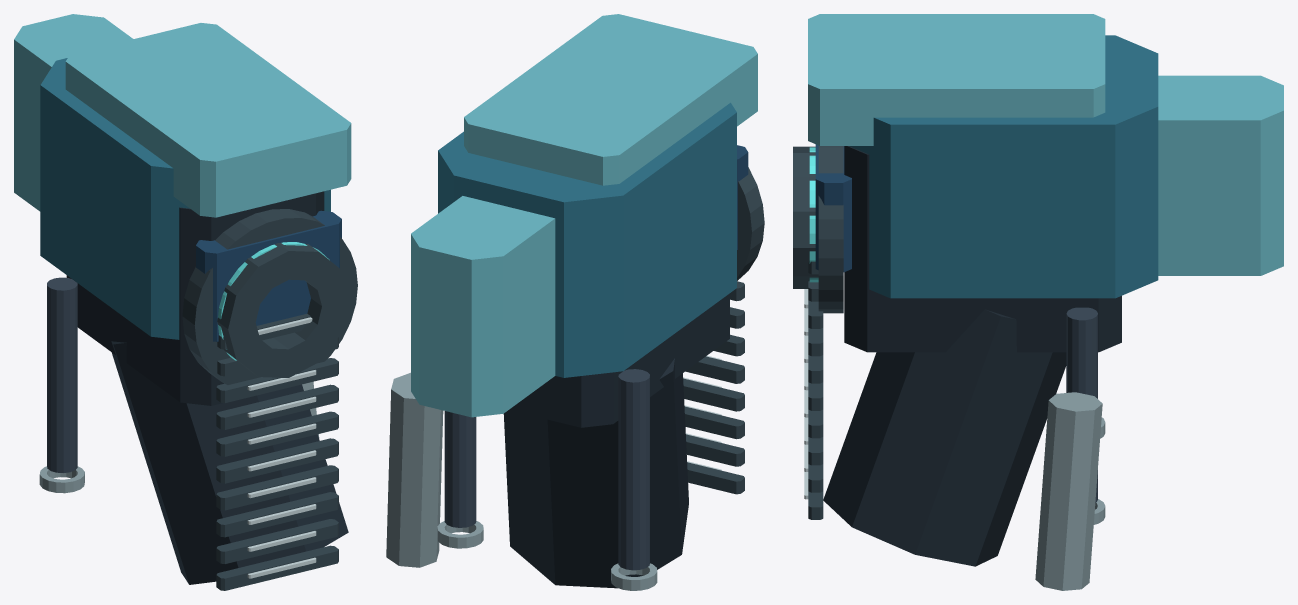
The model's file is enemy_marksman_4k_upper_arm_r.obj.
3 renders of one model, left to right at view 1: azimuth 30°, elevation 25°; view 2: azimuth 150°, elevation 25°; view 3: azimuth 270°, elevation 25°, orthographic. The views are drawn at different scales.
Size of the model in its own units: 0.4759 by 0.8144 by 0.7425.
